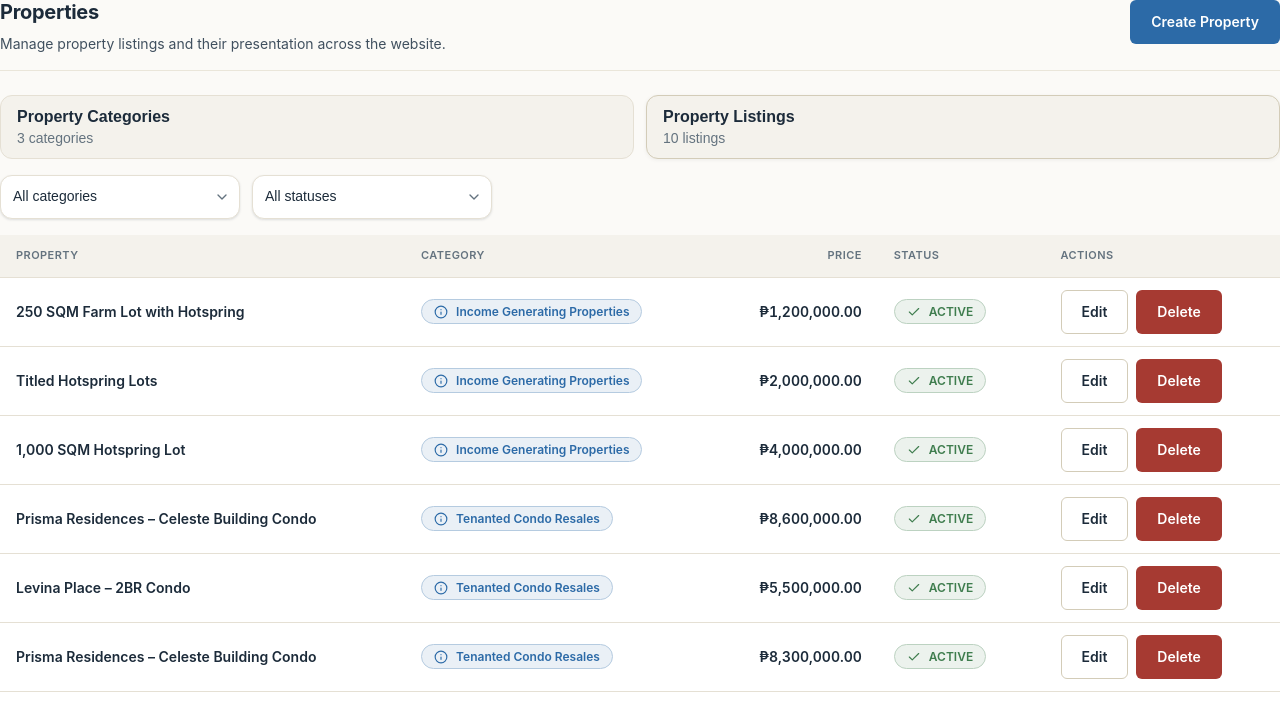
Test: CatalogPage › filters by status when status select changes
The image size is (1280, 704).
Check: the text "250 SQM Farm Lot with Hotspring" is shown, box x1=16 y1=303 x2=244 y2=320
Select "Inactive" in the dropdown named "Filter by status" at (372, 197), box x1=252 y1=175 x2=492 y2=219
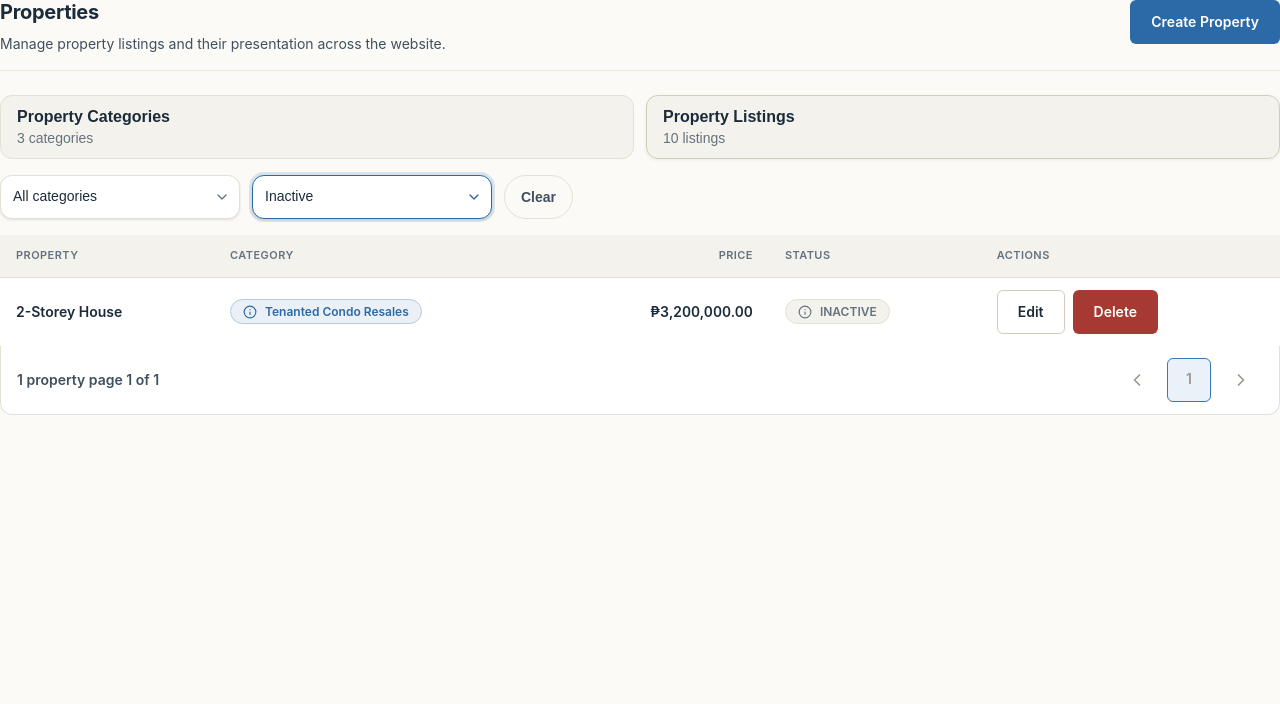
Check: the text "INACTIVE" is shown, box x1=785 y1=299 x2=890 y2=324
Check: the text "250 SQM Farm Lot with Hotspring" is gone
